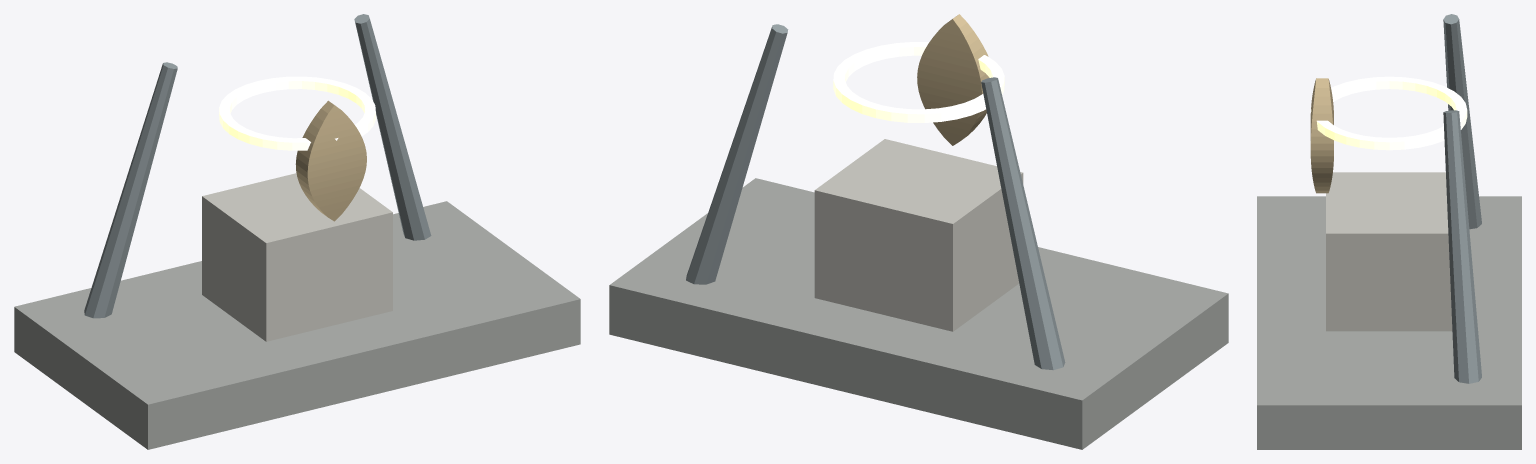
Rendered from prop_seed_shrine.glb.
The picture shows the model from 3 angles, left to right: view 1: azimuth 30°, elevation 25°; view 2: azimuth 150°, elevation 25°; view 3: azimuth 270°, elevation 25°; orthographic projection. The views are drawn at different scales.
Parts seen in each view (by area): view 1: base, altar, frame_-1, seed, frame_1, halo; view 2: base, altar, frame_-1, frame_1, seed, halo; view 3: base, altar, frame_1, halo, frame_-1, seed.
Boxes of the visible parts, left/top/right/bottom form: base: left=14, top=201, right=580, bottom=449; altar: left=202, top=173, right=392, bottom=341; frame_-1: left=84, top=62, right=177, bottom=318; seed: left=295, top=100, right=366, bottom=221; frame_1: left=354, top=14, right=431, bottom=240; halo: left=219, top=76, right=375, bottom=150; base: left=609, top=178, right=1228, bottom=449; altar: left=814, top=139, right=1023, bottom=331; frame_-1: left=981, top=77, right=1065, bottom=370; frame_1: left=686, top=24, right=788, bottom=284; seed: left=917, top=14, right=989, bottom=145; halo: left=833, top=42, right=1004, bottom=122; base: left=1257, top=196, right=1521, bottom=449; altar: left=1326, top=172, right=1452, bottom=331; frame_1: left=1443, top=110, right=1481, bottom=383; halo: left=1311, top=76, right=1467, bottom=150; frame_-1: left=1443, top=14, right=1481, bottom=229; seed: left=1310, top=78, right=1333, bottom=193.
Size of the model in its own units: 2.8 by 1.76 by 1.5.
